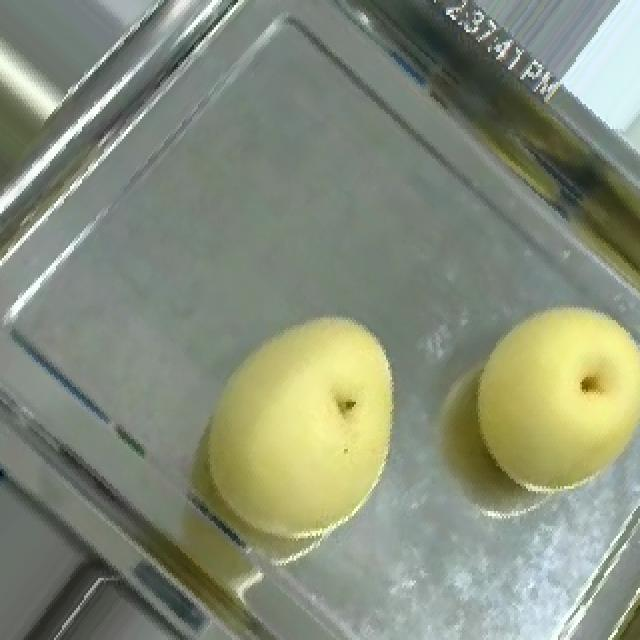Fruit: (160, 288, 430, 576), (444, 281, 640, 518)
